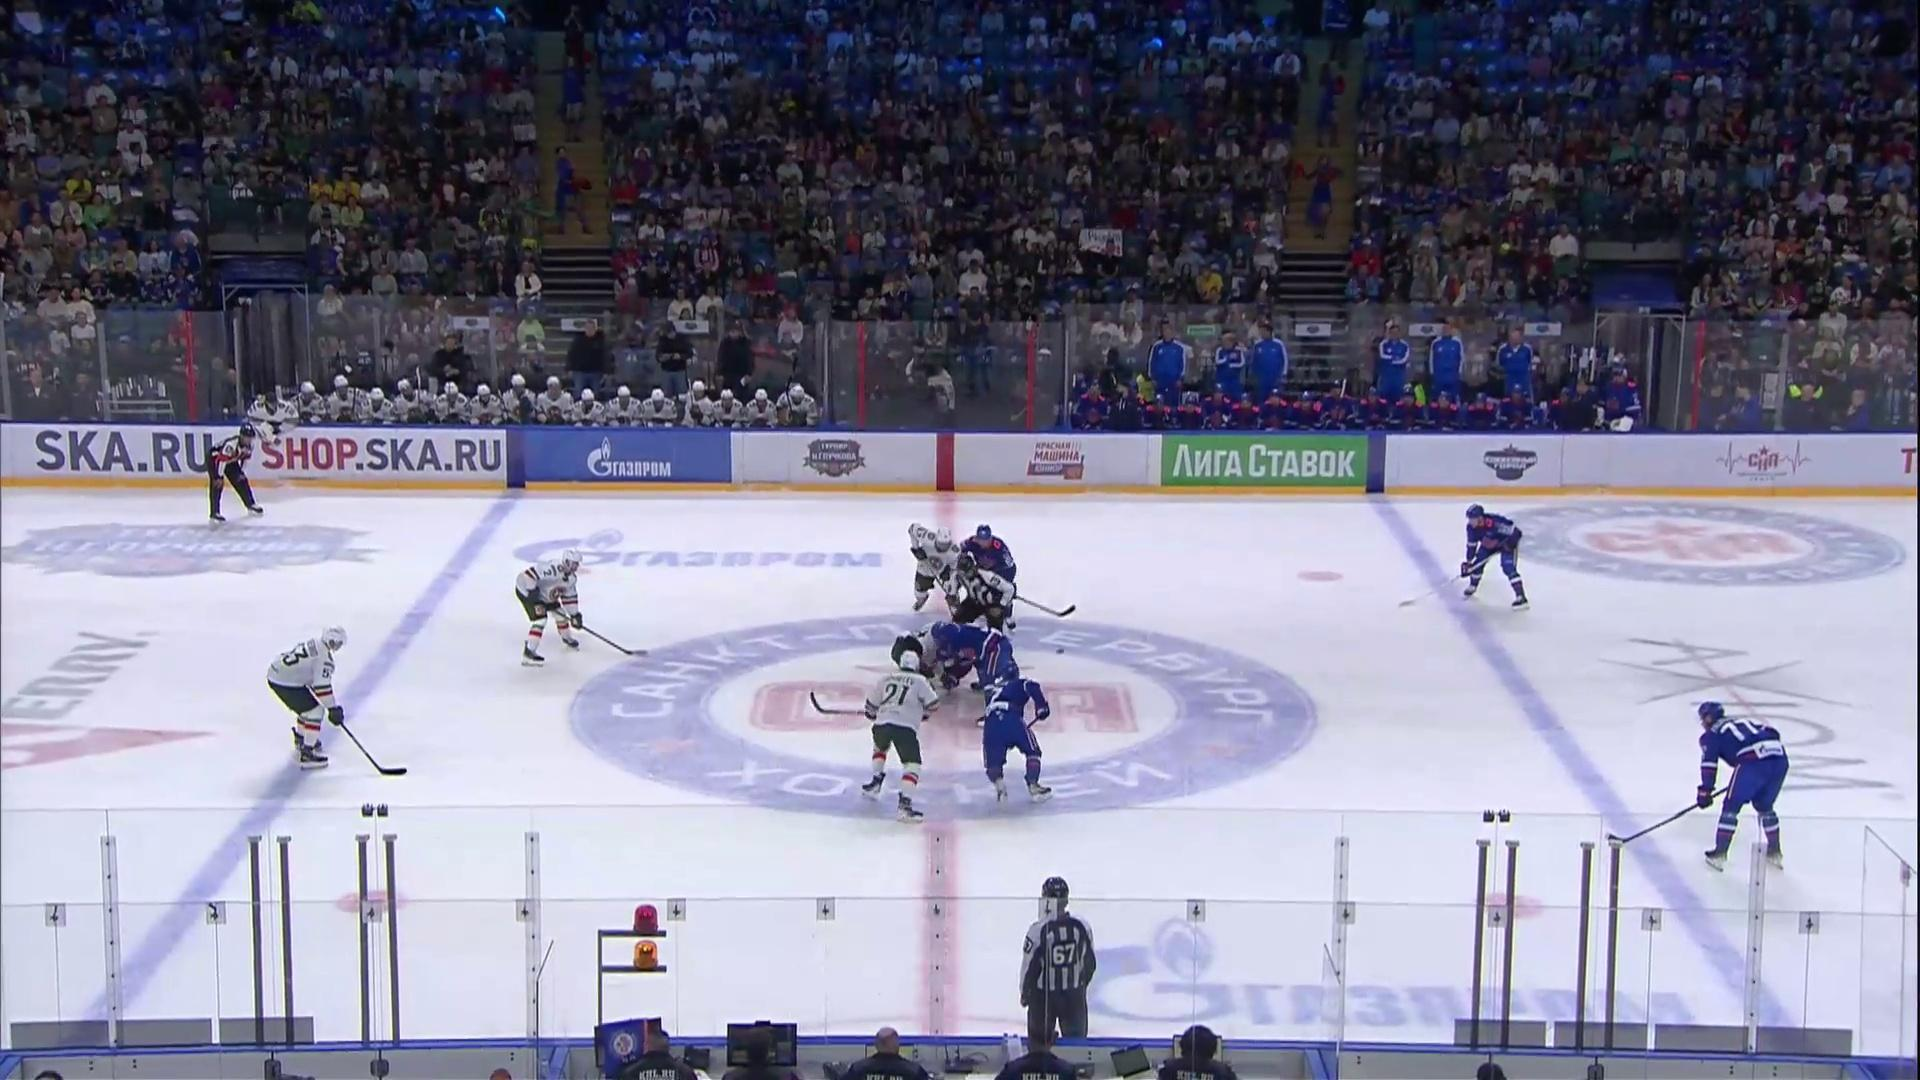ball: (1055, 649, 1064, 654)
